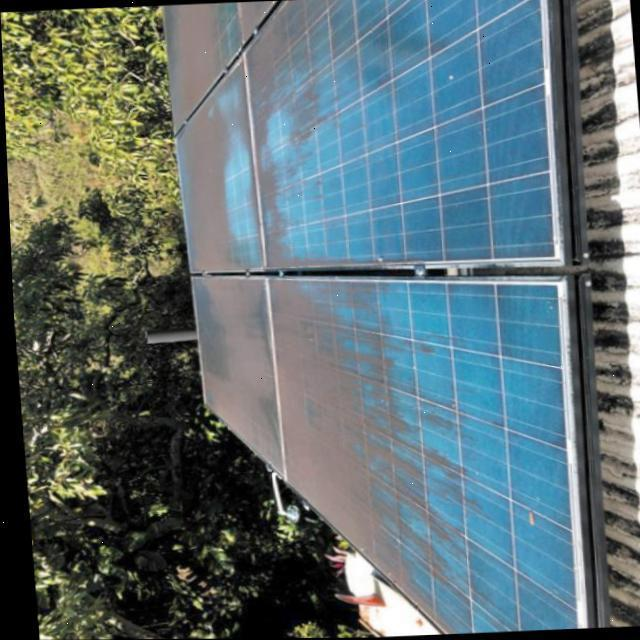Anomaly Solar Panel: (263, 277, 572, 634), (242, 0, 555, 269), (187, 275, 281, 480), (174, 54, 259, 272), (161, 1, 241, 135), (238, 0, 278, 44)
Surface Contaminant: (261, 274, 509, 634), (242, 0, 424, 268), (173, 55, 259, 270), (193, 274, 278, 477), (160, 2, 226, 134), (237, 0, 277, 44)
